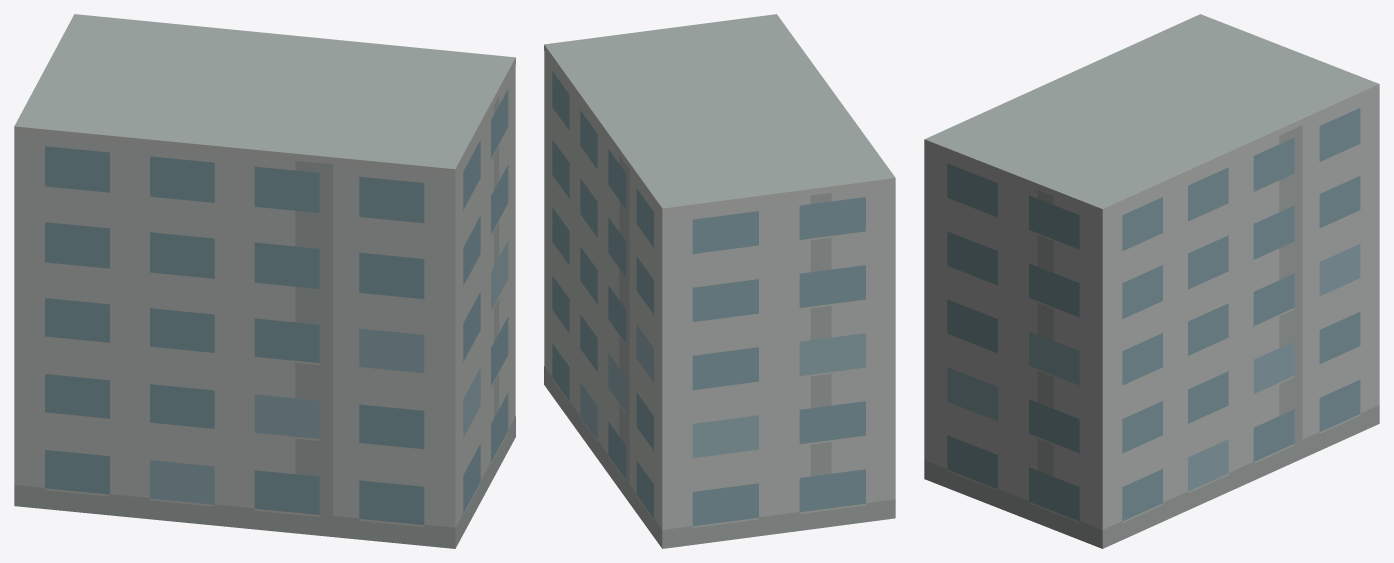
The model's file is survey-upis-32854424.glb.
3 views of the same model, side by side, from view 1: azimuth 30°, elevation 25°; view 2: azimuth 150°, elevation 25°; view 3: azimuth 270°, elevation 25° (orthographic). The views are drawn at different scales.
Visible parts, largest first — view 1: survey-upis-32854424.tmp; view 2: survey-upis-32854424.tmp; view 3: survey-upis-32854424.tmp.
Part boxes in pixels (box(x1,y1,x2,y2)): survey-upis-32854424.tmp: box(14, 14, 515, 548); survey-upis-32854424.tmp: box(544, 14, 895, 548); survey-upis-32854424.tmp: box(924, 14, 1379, 548).
Bounding box in the file's own units: 16.02 × 13 × 15.79.
